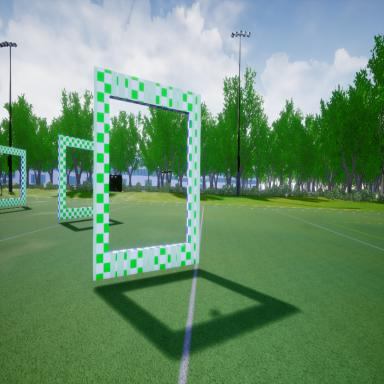gate: (93, 58, 203, 287), (57, 136, 95, 223), (0, 142, 29, 215)
